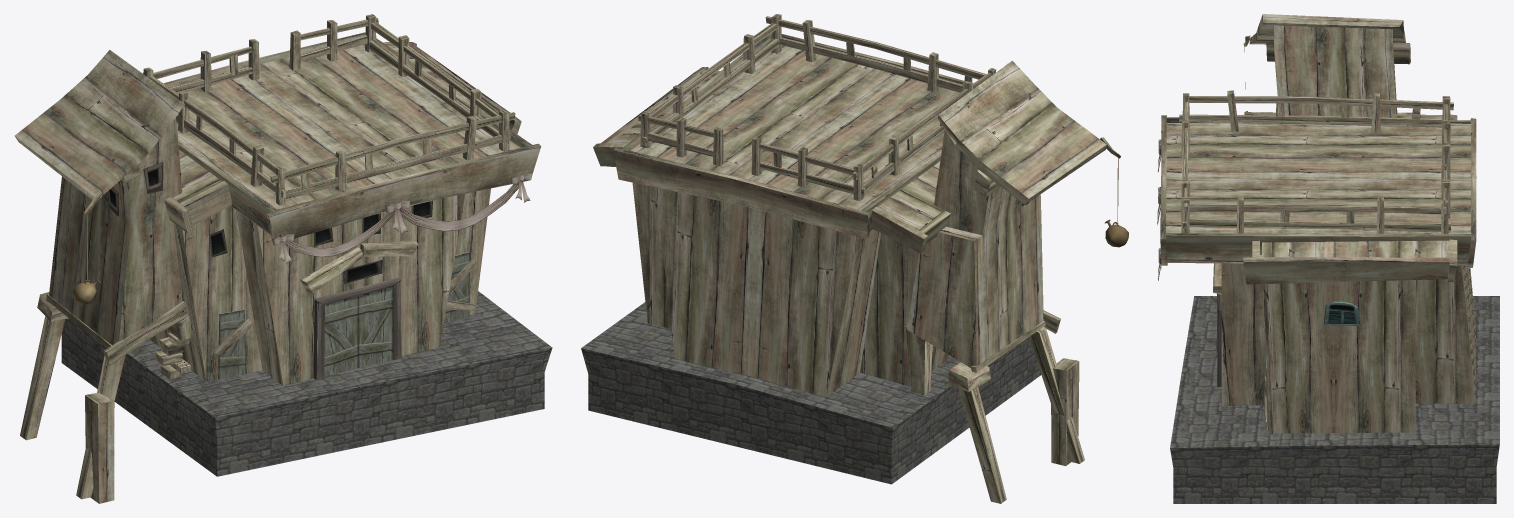
File: shanty_npc_house_combo_A.fbx
3 views of the same model, side by side, from view 1: azimuth 30°, elevation 25°; view 2: azimuth 150°, elevation 25°; view 3: azimuth 270°, elevation 25° (orthographic). The views are drawn at different scales.
Parts seen in each view (by area): view 1: buildingbase_geo8, building_main, pPlane7, building_right, roof_right, balconyfloormain5, plank8, door_right, door_left, plank4, door_frame, railing125 (+18 smaller); view 2: building_main, buildingbase_geo8, pPlane7, building_right, roof_right, balconyfloormain5, pPlane5, plank8, plank4, plank7, balconyfloor, railing105 (+10 smaller); view 3: building_main, buildingbase_geo8, pPlane7, building_right, balconyfloormain5, balconyfloorall_all, pPlane9, railing125_1, railing128_1, roof_right, railing105_1, railing127_1 (+3 smaller).
Boxes of the visible parts, x1=… form: buildingbase_geo8: x1=61, y1=291, x2=552, y2=476; building_main: x1=149, y1=188, x2=490, y2=386; pPlane7: x1=168, y1=44, x2=520, y2=209; building_right: x1=49, y1=78, x2=183, y2=344; roof_right: x1=14, y1=50, x2=184, y2=199; balconyfloormain5: x1=164, y1=32, x2=541, y2=242; plank8: x1=85, y1=392, x2=114, y2=503; door_right: x1=358, y1=287, x2=392, y2=367; door_left: x1=324, y1=296, x2=358, y2=376; plank4: x1=20, y1=316, x2=65, y2=440; door_frame: x1=313, y1=277, x2=401, y2=379; railing125: x1=285, y1=132, x2=511, y2=199; building_main: x1=632, y1=182, x2=951, y2=397; buildingbase_geo8: x1=581, y1=302, x2=1041, y2=484; pPlane7: x1=631, y1=45, x2=959, y2=210; building_right: x1=906, y1=129, x2=1043, y2=367; roof_right: x1=937, y1=60, x2=1106, y2=204; balconyfloormain5: x1=613, y1=33, x2=964, y2=238; pPlane5: x1=877, y1=161, x2=943, y2=229; plank8: x1=1051, y1=358, x2=1079, y2=466; plank4: x1=958, y1=387, x2=1006, y2=503; plank7: x1=1029, y1=327, x2=1084, y2=463; balconyfloor: x1=871, y1=207, x2=950, y2=253; railing105: x1=765, y1=16, x2=986, y2=79; building_main: x1=1221, y1=263, x2=1475, y2=433; buildingbase_geo8: x1=1170, y1=296, x2=1499, y2=503; pPlane7: x1=1165, y1=122, x2=1470, y2=233; building_right: x1=1274, y1=25, x2=1412, y2=117; balconyfloormain5: x1=1160, y1=115, x2=1476, y2=267; balconyfloorall_all: x1=1243, y1=239, x2=1457, y2=284; pPlane9: x1=1262, y1=240, x2=1449, y2=257; railing125_1: x1=1179, y1=114, x2=1442, y2=127; railing128_1: x1=1189, y1=218, x2=1451, y2=232; roof_right: x1=1249, y1=14, x2=1405, y2=44; railing105_1: x1=1189, y1=96, x2=1453, y2=110; railing127_1: x1=1189, y1=203, x2=1441, y2=213.
Size of the model in its own units: 6276 by 5238 by 4331.
3 materials, 3 textured.
